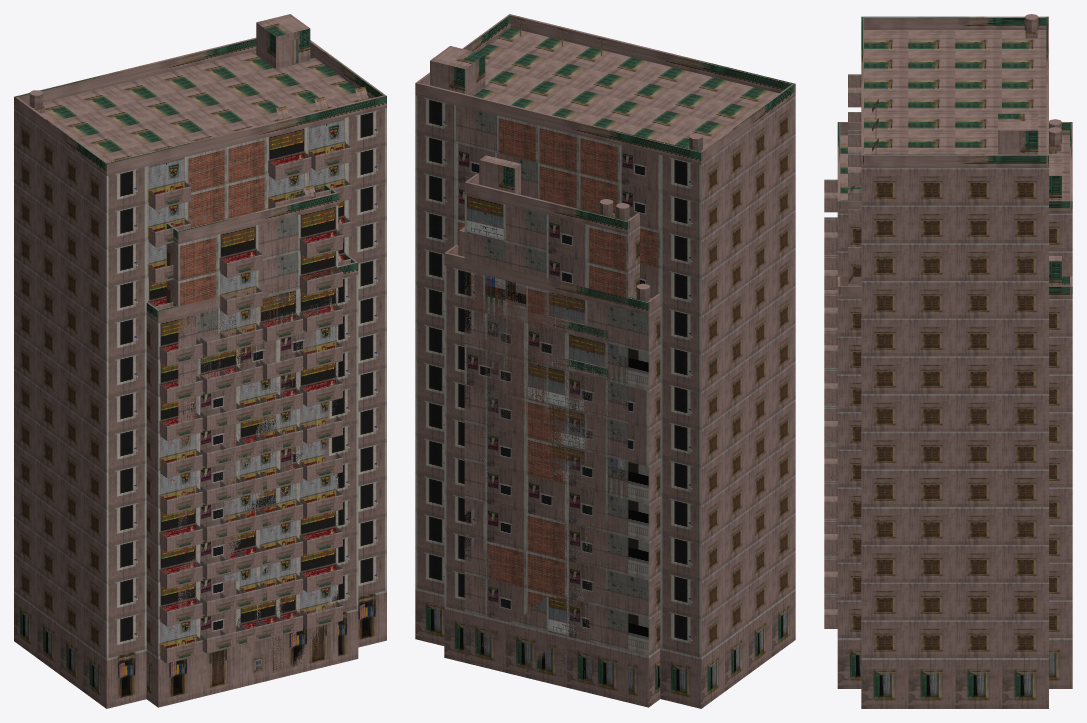
The picture shows the model from 3 angles, left to right: view 1: azimuth 30°, elevation 25°; view 2: azimuth 150°, elevation 25°; view 3: azimuth 270°, elevation 25°; orthographic projection. The views are drawn at different scales.
Visible parts, largest first — view 1: Plaster_7x4_f13_v1, Plaster_4x5_f9_v1, Plaster_5x5_f9_v0, Plaster_3x5_f7_v0, Plaster_4x5_f11_v0, Plaster_3x5_f8_v1; view 2: Plaster_7x4_f13_v1, Plaster_4x5_f9_v1, Plaster_3x5_f7_v0, Plaster_5x5_f9_v0, Plaster_4x5_f11_v0, Plaster_3x5_f8_v1; view 3: Plaster_7x4_f13_v1, Plaster_5x5_f9_v0, Plaster_4x5_f11_v0, Plaster_4x5_f9_v1.
Part boxes in pixels (x1=…): Plaster_7x4_f13_v1: x1=14, y1=14, x2=386, y2=708; Plaster_4x5_f9_v1: x1=166, y1=268, x2=342, y2=702; Plaster_5x5_f9_v0: x1=146, y1=252, x2=358, y2=707; Plaster_3x5_f7_v0: x1=198, y1=363, x2=318, y2=697; Plaster_4x5_f11_v0: x1=166, y1=185, x2=342, y2=314; Plaster_3x5_f8_v1: x1=198, y1=310, x2=317, y2=653; Plaster_7x4_f13_v1: x1=415, y1=14, x2=795, y2=708; Plaster_4x5_f9_v1: x1=464, y1=258, x2=636, y2=702; Plaster_3x5_f7_v0: x1=485, y1=339, x2=607, y2=693; Plaster_5x5_f9_v0: x1=444, y1=227, x2=660, y2=707; Plaster_4x5_f11_v0: x1=464, y1=155, x2=639, y2=307; Plaster_3x5_f8_v1: x1=485, y1=301, x2=607, y2=380; Plaster_7x4_f13_v1: x1=848, y1=14, x2=1048, y2=708; Plaster_5x5_f9_v0: x1=824, y1=252, x2=1072, y2=688; Plaster_4x5_f11_v0: x1=824, y1=119, x2=1072, y2=289; Plaster_4x5_f9_v1: x1=824, y1=255, x2=1069, y2=628.
Size of the model in its own units: 24.5 by 47.2 by 18.5.
1 material, 1 textured.
